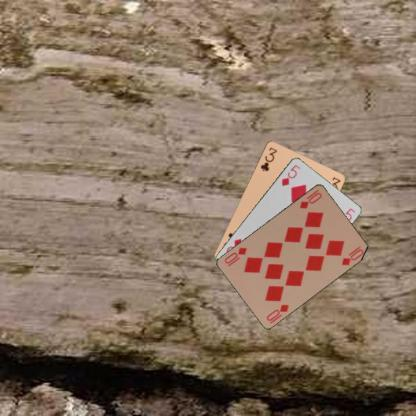10d: (297, 186, 323, 209), (264, 302, 291, 324)
3c: (258, 145, 278, 172)
5d: (279, 162, 302, 187)
